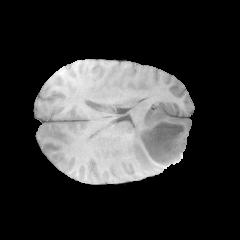glioma: (127, 101, 191, 170)
